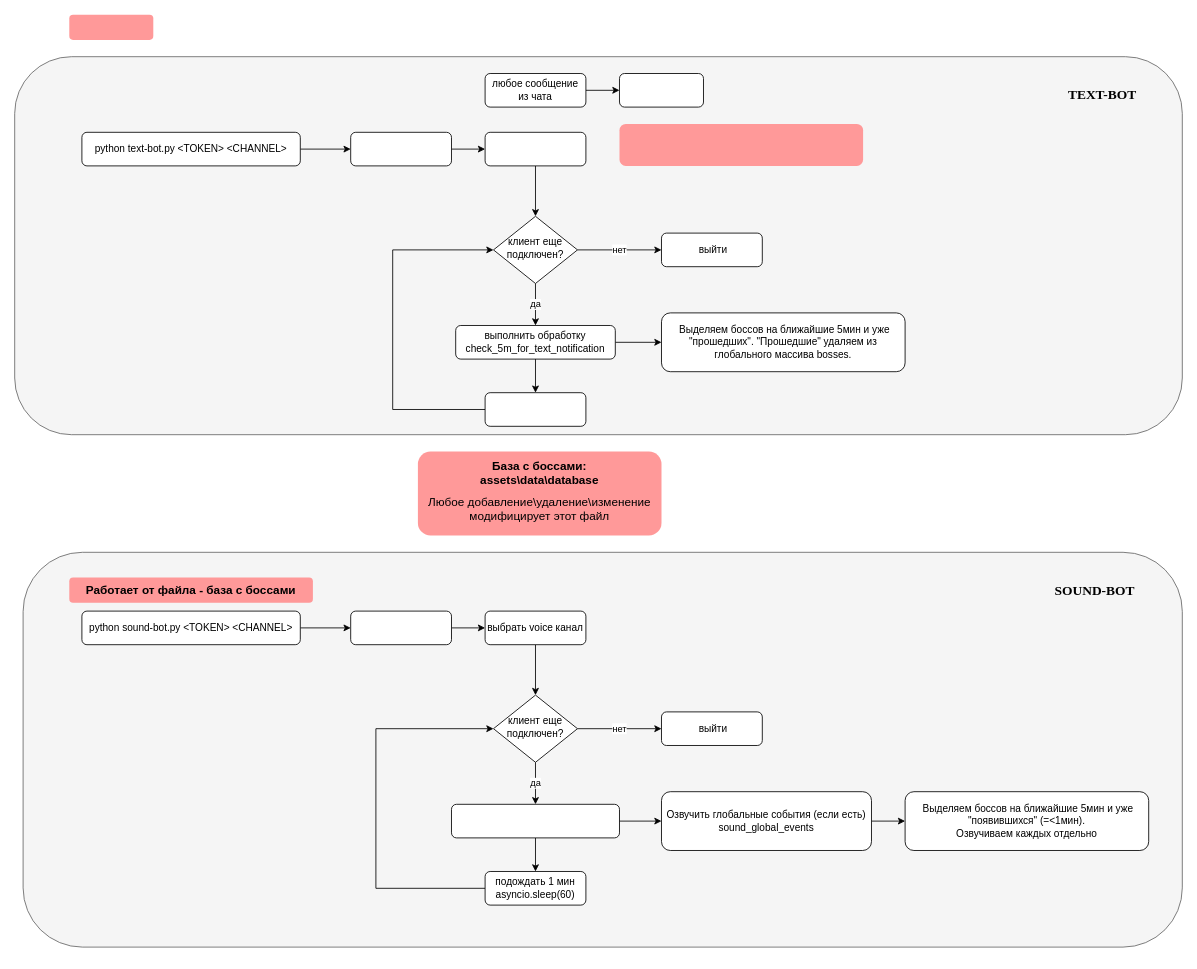
Image size: 1197x969. Some labels were removed from this diagram. The centre of each missing label's shape, as x and y in pixels:
sound_notification: the point at 401,627
text_notification: the point at 401,148
выбрать text канал: the point at 535,148
выполнить обработку check_1m_for_sound_notification: the point at 535,820
добавление\удаление\изменение боссов: the point at 741,144
комментарии: the point at 111,26
Обработчик on_message: the point at 661,90
подождать 4 мин asyncio.sleep(240): the point at 535,409
